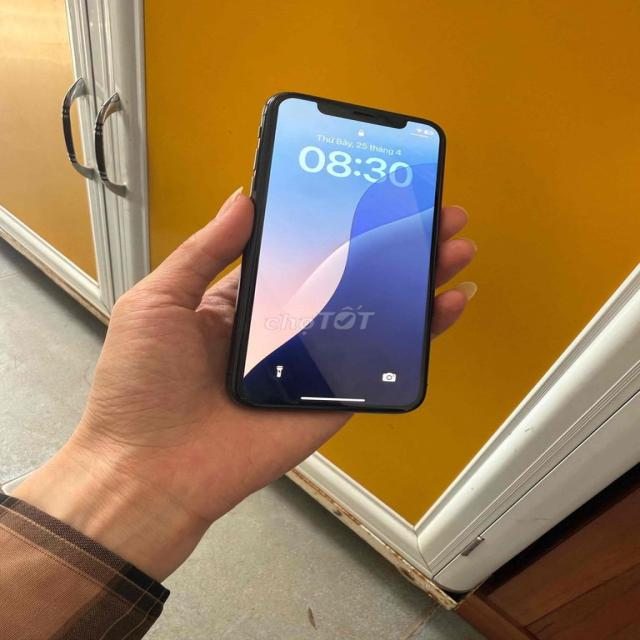scratch: (238, 390, 255, 405)
